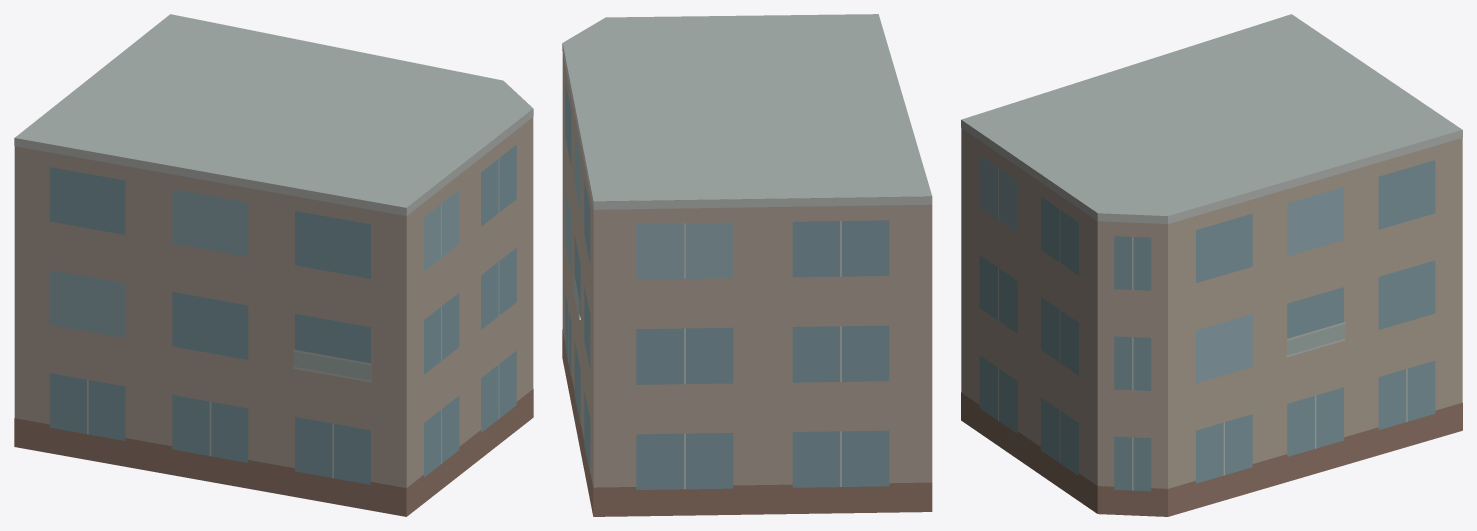
The model's file is survey-upis-32803000.glb.
3 views of the same model, side by side, from view 1: azimuth 30°, elevation 25°; view 2: azimuth 150°, elevation 25°; view 3: azimuth 270°, elevation 25° (orthographic). The views are drawn at different scales.
Parts seen in each view (by area): view 1: survey-upis-32803000.tmp; view 2: survey-upis-32803000.tmp; view 3: survey-upis-32803000.tmp.
Boxes of the visible parts, bbox=[...] form: survey-upis-32803000.tmp: bbox=[14, 14, 533, 516]; survey-upis-32803000.tmp: bbox=[562, 14, 932, 516]; survey-upis-32803000.tmp: bbox=[961, 14, 1462, 516].
Bounding box in the file's own units: 13.2 × 9.15 × 13.84.
